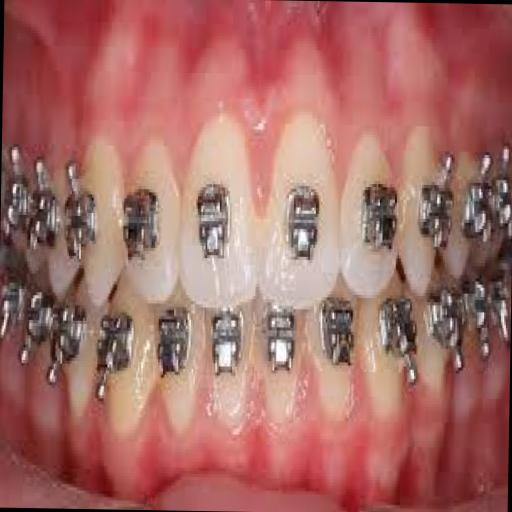correct_brace: (352, 171, 403, 272), (191, 172, 238, 276), (278, 170, 320, 268), (420, 154, 454, 264), (64, 159, 99, 264), (120, 179, 163, 258)
incorrect_brace: (338, 128, 403, 304), (120, 132, 184, 306)
